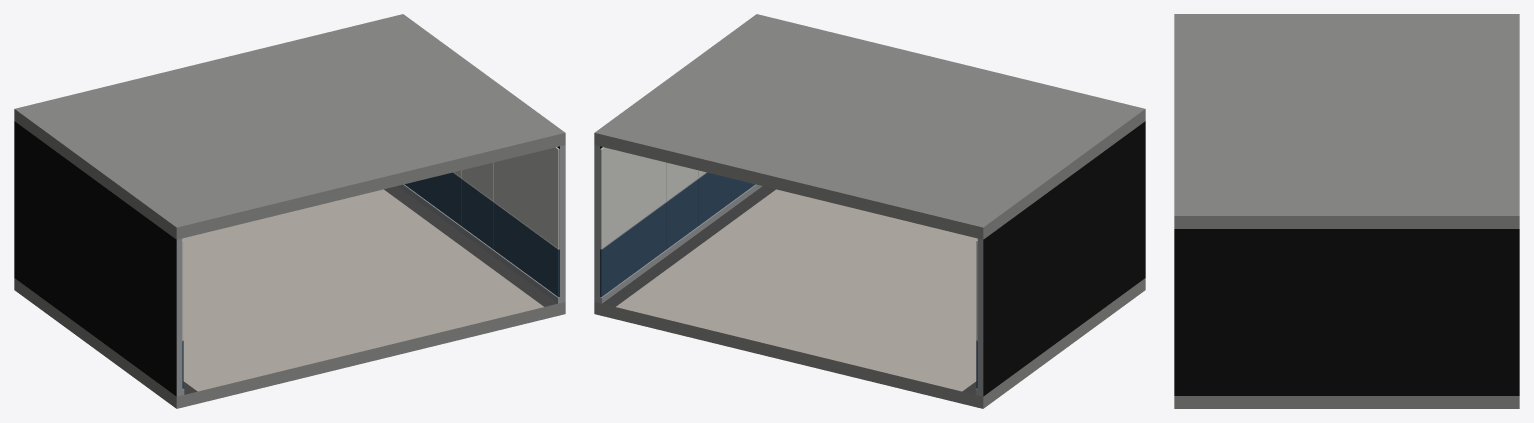
File: gteki_passage_straight_w8_l6.glb
3 views of the same model, side by side, from view 1: azimuth 30°, elevation 25°; view 2: azimuth 150°, elevation 25°; view 3: azimuth 270°, elevation 25° (orthographic). The views are drawn at different scales.
Visible parts, largest first — view 1: VIS_body; view 2: VIS_body; view 3: VIS_body.
Part boxes in pixels (x1,y1,x2,y2): VIS_body: [14, 14, 565, 408]; VIS_body: [594, 14, 1145, 408]; VIS_body: [1174, 14, 1519, 408].
Size of what is drawn, in the model's own units: 8.3 by 3.7 by 6.
Materials: 1 (1 with a texture image).
